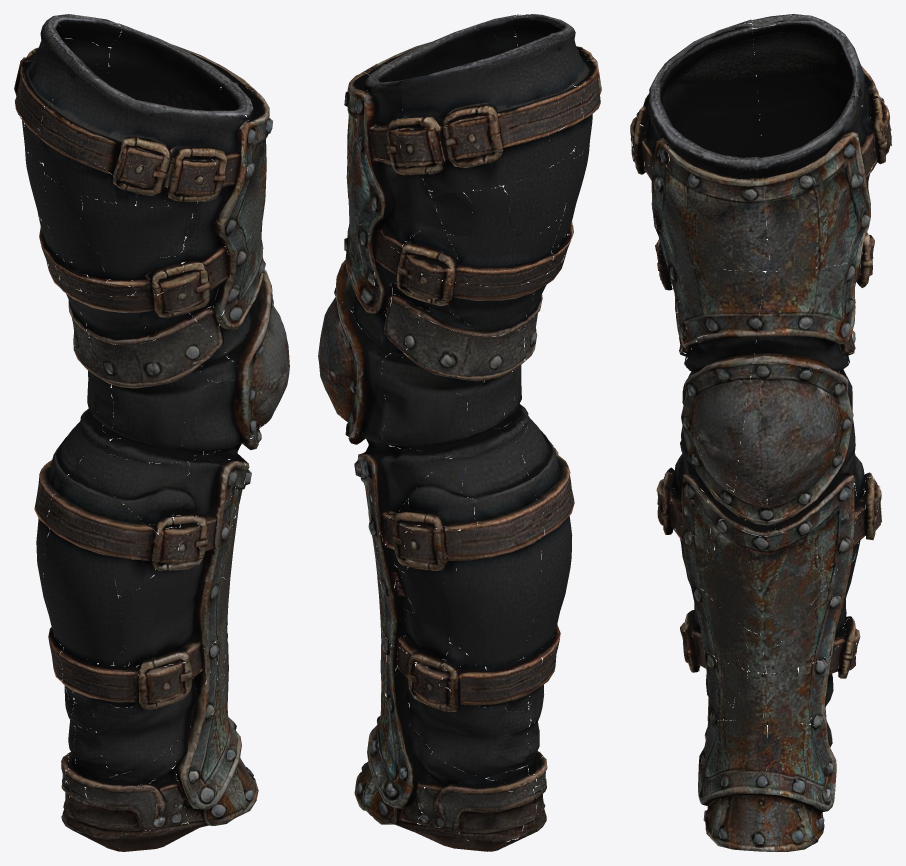
Rendered from a_sluice_greaves.glb.
3 renders of one model, left to right at view 1: azimuth 30°, elevation 25°; view 2: azimuth 150°, elevation 25°; view 3: azimuth 270°, elevation 25°, orthographic. The views are drawn at different scales.
Visible parts, largest first — view 1: tripo_node_f21b655e-fed7-4f12-bf31-daf548b900f1; view 2: tripo_node_f21b655e-fed7-4f12-bf31-daf548b900f1; view 3: tripo_node_f21b655e-fed7-4f12-bf31-daf548b900f1.
Boxes of the visible parts, x1=… form: tripo_node_f21b655e-fed7-4f12-bf31-daf548b900f1: x1=14, y1=14, x2=289, y2=851; tripo_node_f21b655e-fed7-4f12-bf31-daf548b900f1: x1=318, y1=14, x2=601, y2=851; tripo_node_f21b655e-fed7-4f12-bf31-daf548b900f1: x1=630, y1=14, x2=891, y2=851.
Size of the model in its own units: 0.3205 by 0.9789 by 0.2963.
Materials: 1 (1 with a texture image).
